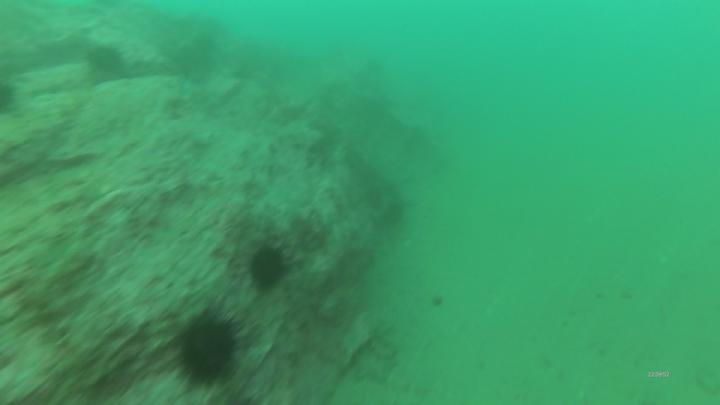echinus: (181, 323, 236, 377), (250, 249, 285, 290), (88, 45, 122, 72)
